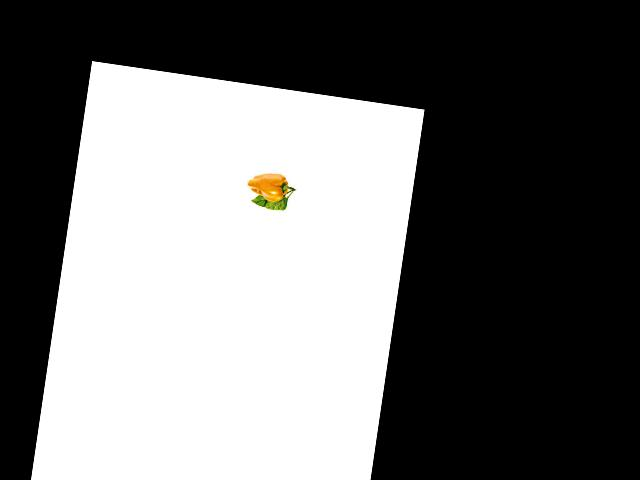bell_pepper: (244, 167, 298, 205)
